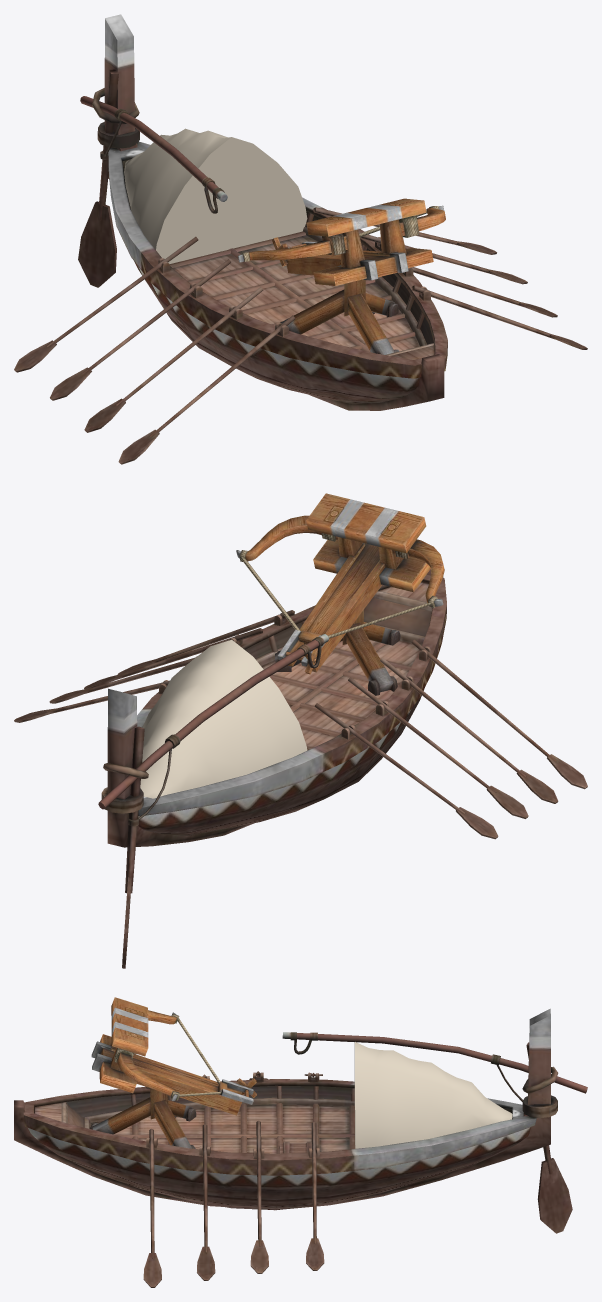
Rendered from 255-warbarge.glb.
3 renders of one model, top to bottom at view 1: azimuth 30°, elevation 25°; view 2: azimuth 150°, elevation 25°; view 3: azimuth 270°, elevation 25°, orthographic. The views are drawn at different scales.
Bounding box in the file's own units: 6.06 × 3.25 × 7.48.
3 materials, 2 textured.
